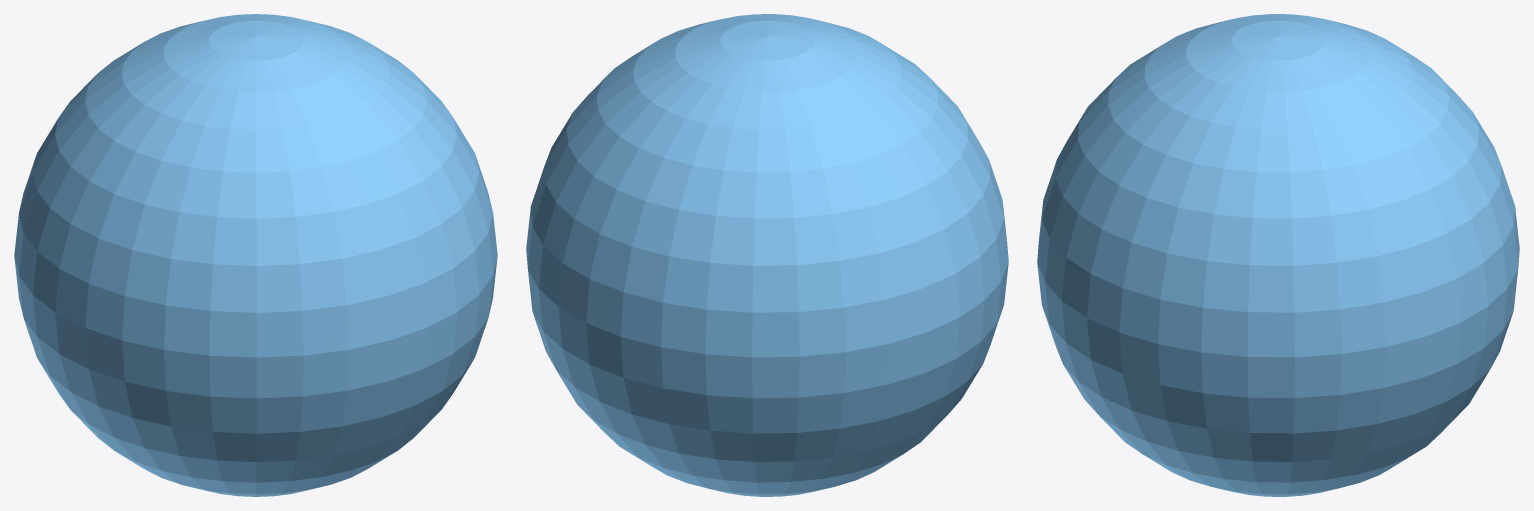
File: test-zone2.glb
3 views of the same model, side by side, from view 1: azimuth 30°, elevation 25°; view 2: azimuth 150°, elevation 25°; view 3: azimuth 270°, elevation 25° (orthographic).
Parts seen in each view (by area): view 1: SkyBox; view 2: SkyBox; view 3: SkyBox.
Boxes of the visible parts, x1,y1,x2,y2 form: SkyBox: [14, 14, 497, 496]; SkyBox: [526, 14, 1008, 496]; SkyBox: [1037, 14, 1519, 496].
Size of the model in its own units: 588 by 589 by 588.
13 materials, 13 textured.
